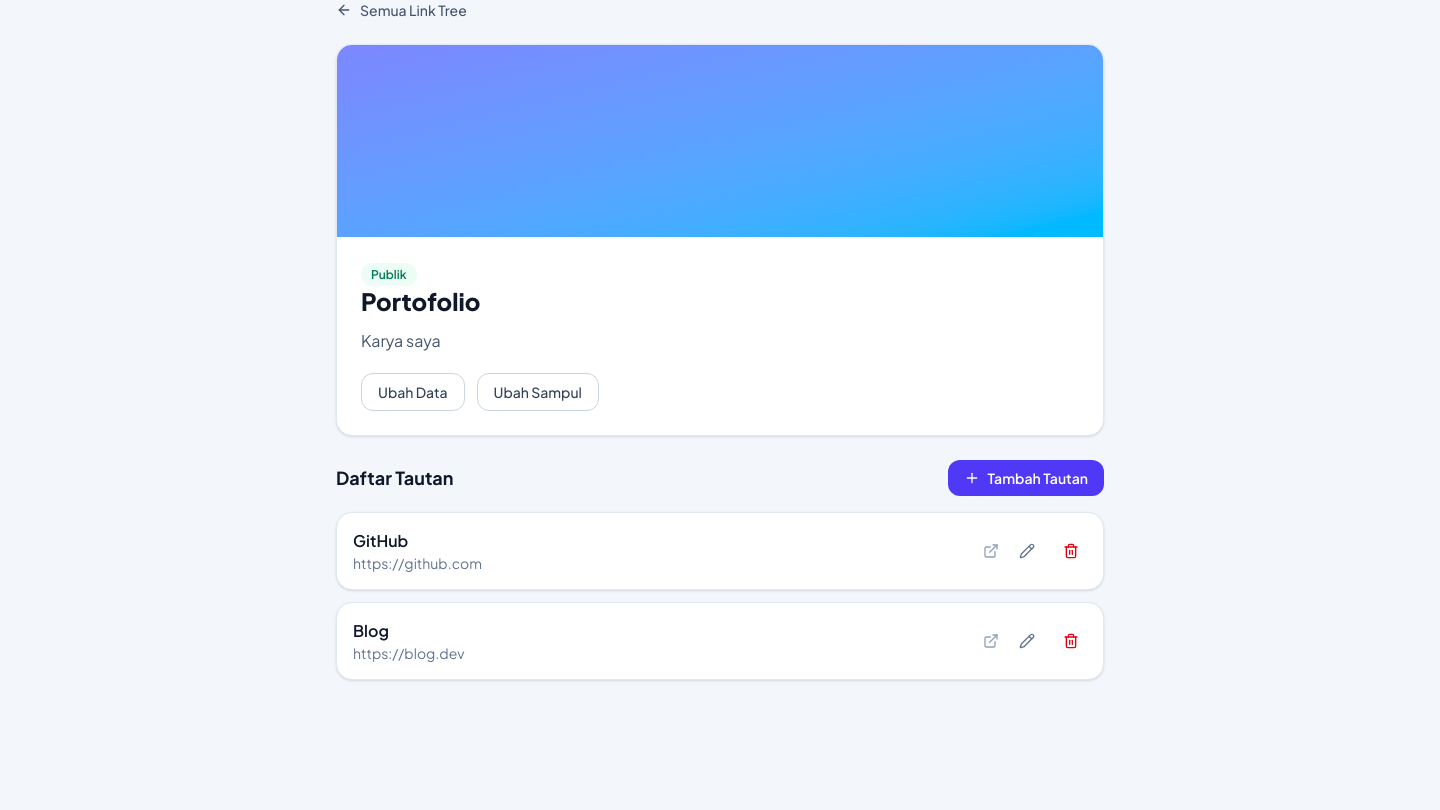
it: DetailPage › ubah data: berhasil
Expected: the heading "Portofolio" is shown, [361,286,480,316]
Click the button "Ubah Data". click: (413,392)
box: [361,373,464,411]
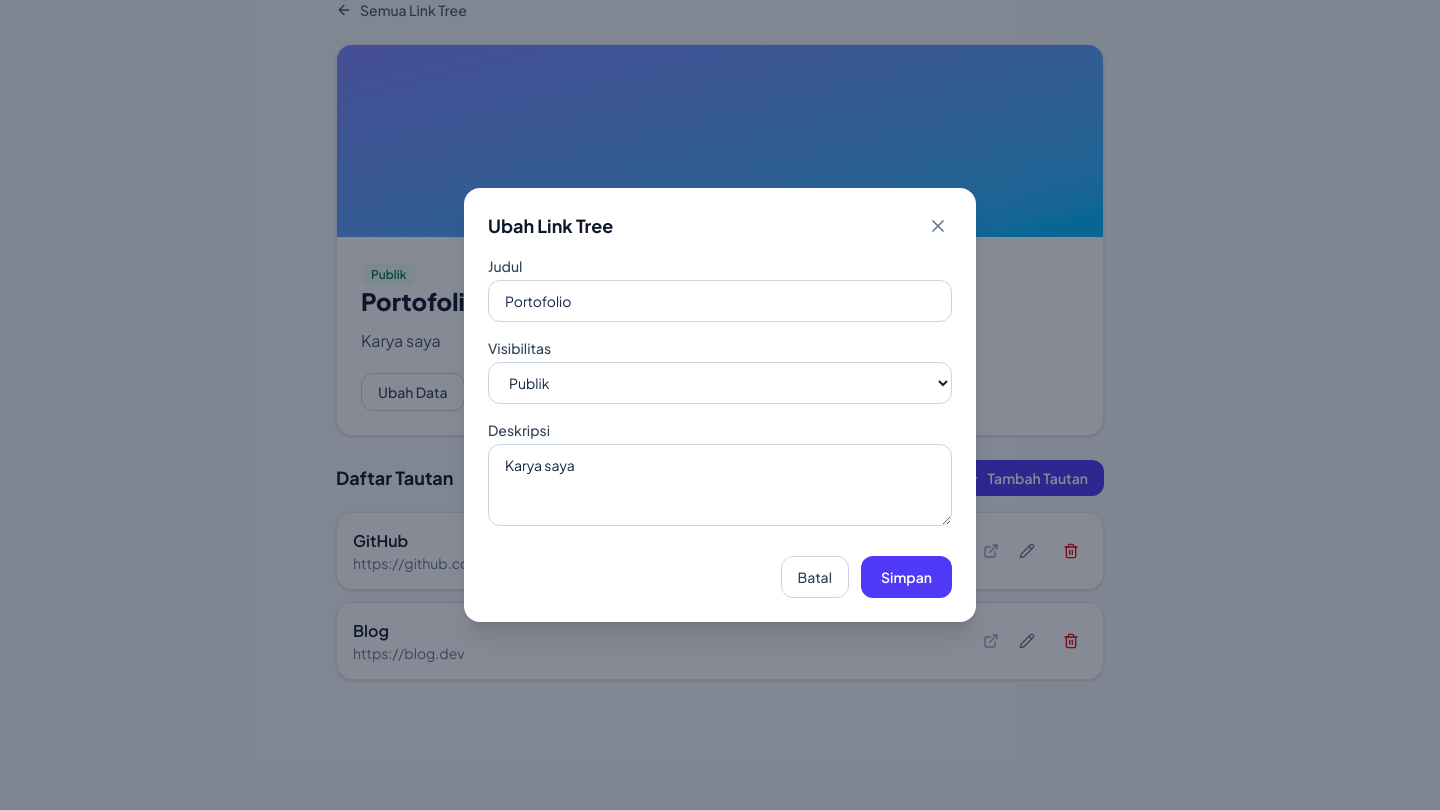
Expected: the dialog "Ubah Link Tree" is shown, [464,188,976,622]
Replace the text in the field labelled "Judul" with "Baru". click: (720,301)
box: [488,280,952,322]
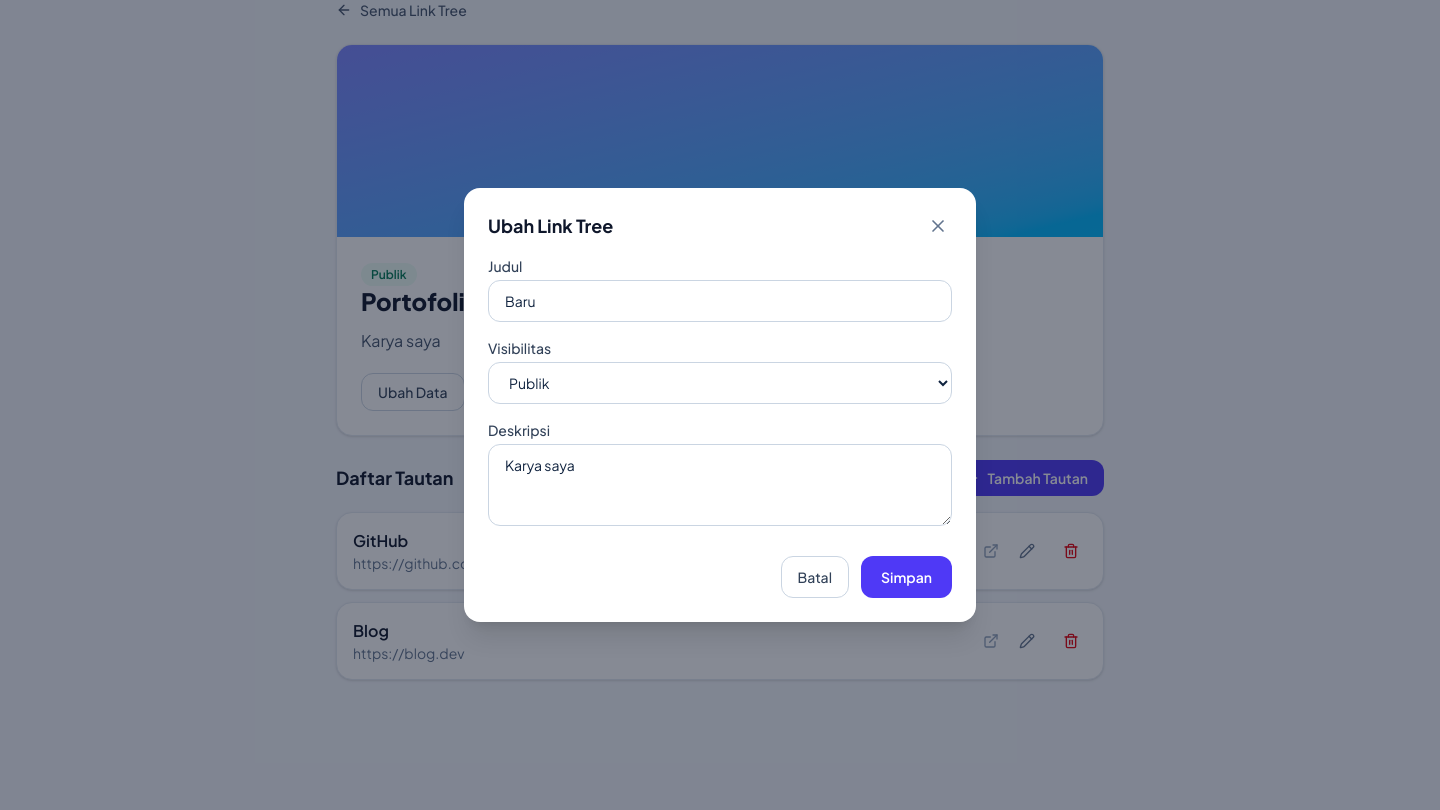
Click the button "Simpan". click: (906,577)
box: [861,556,952,598]
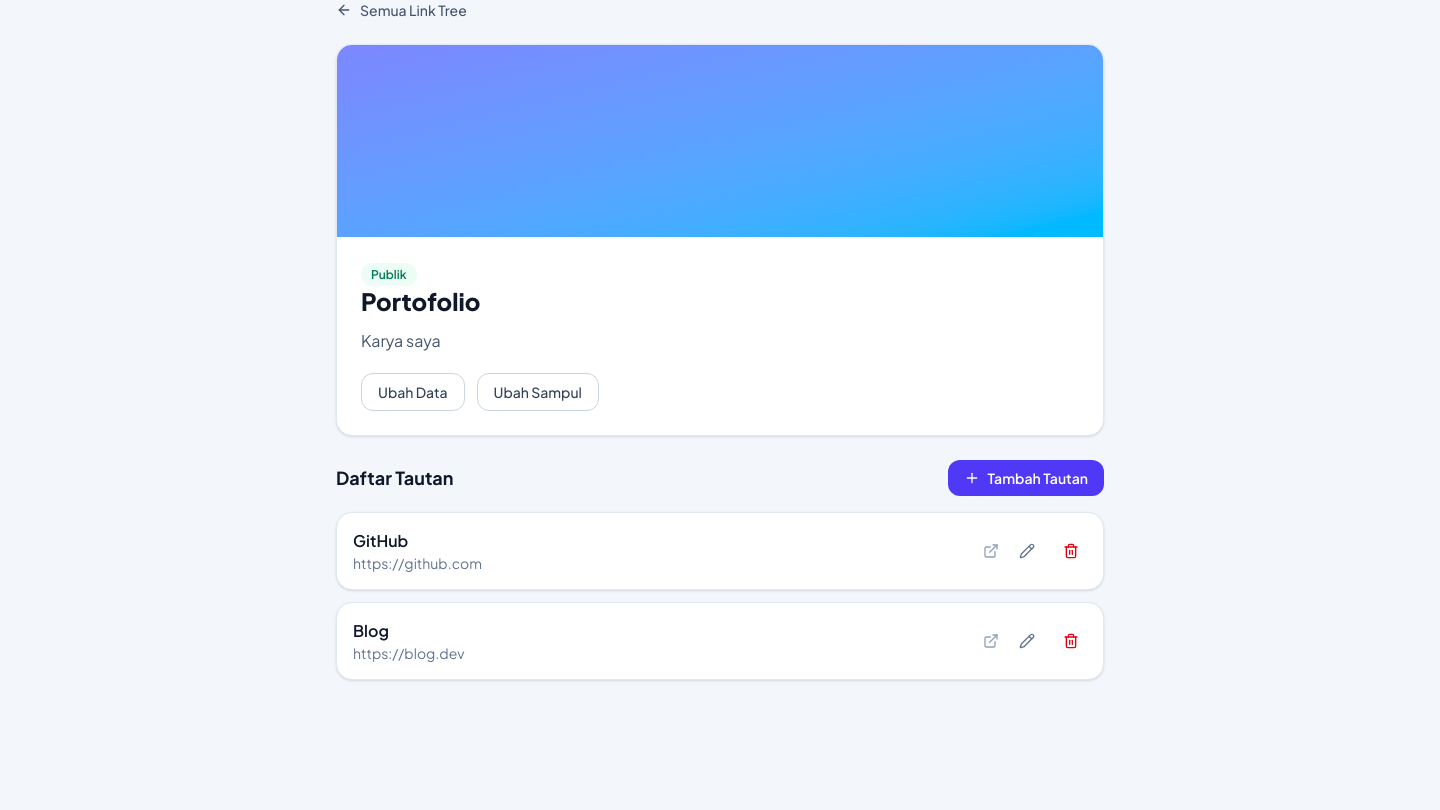
Expected: the dialog is gone
